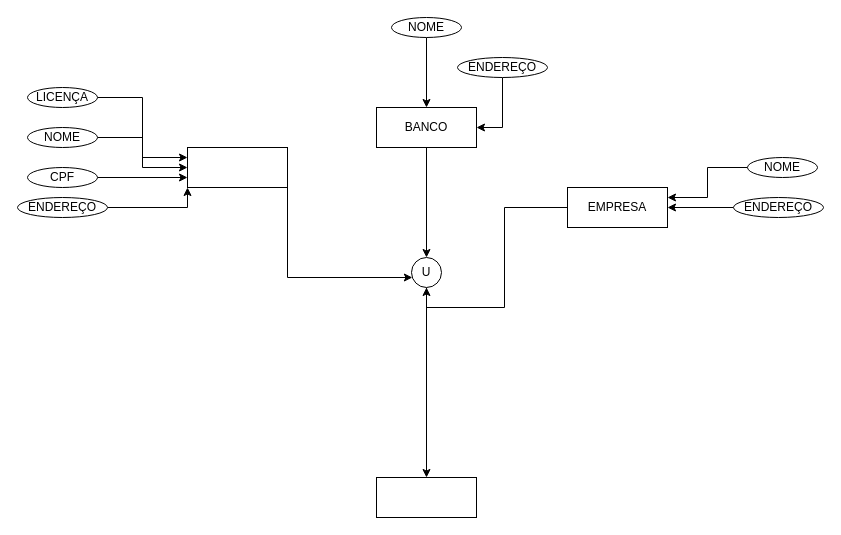
Some shapes in this 841 by 535 pixel diagram are drawn without their labels. The centre of each missing label's shape, as x and y in pixels:
Owner: the point at 426,497
PESSOA: the point at 237,167
